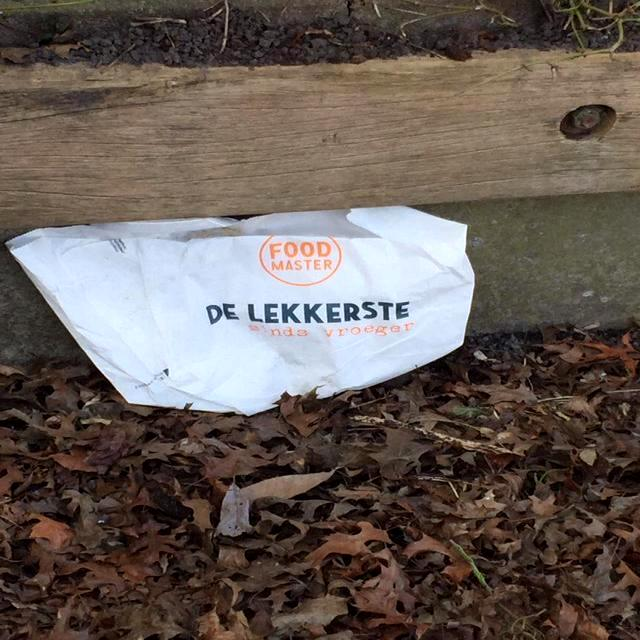Paper: (1, 203, 477, 419)
